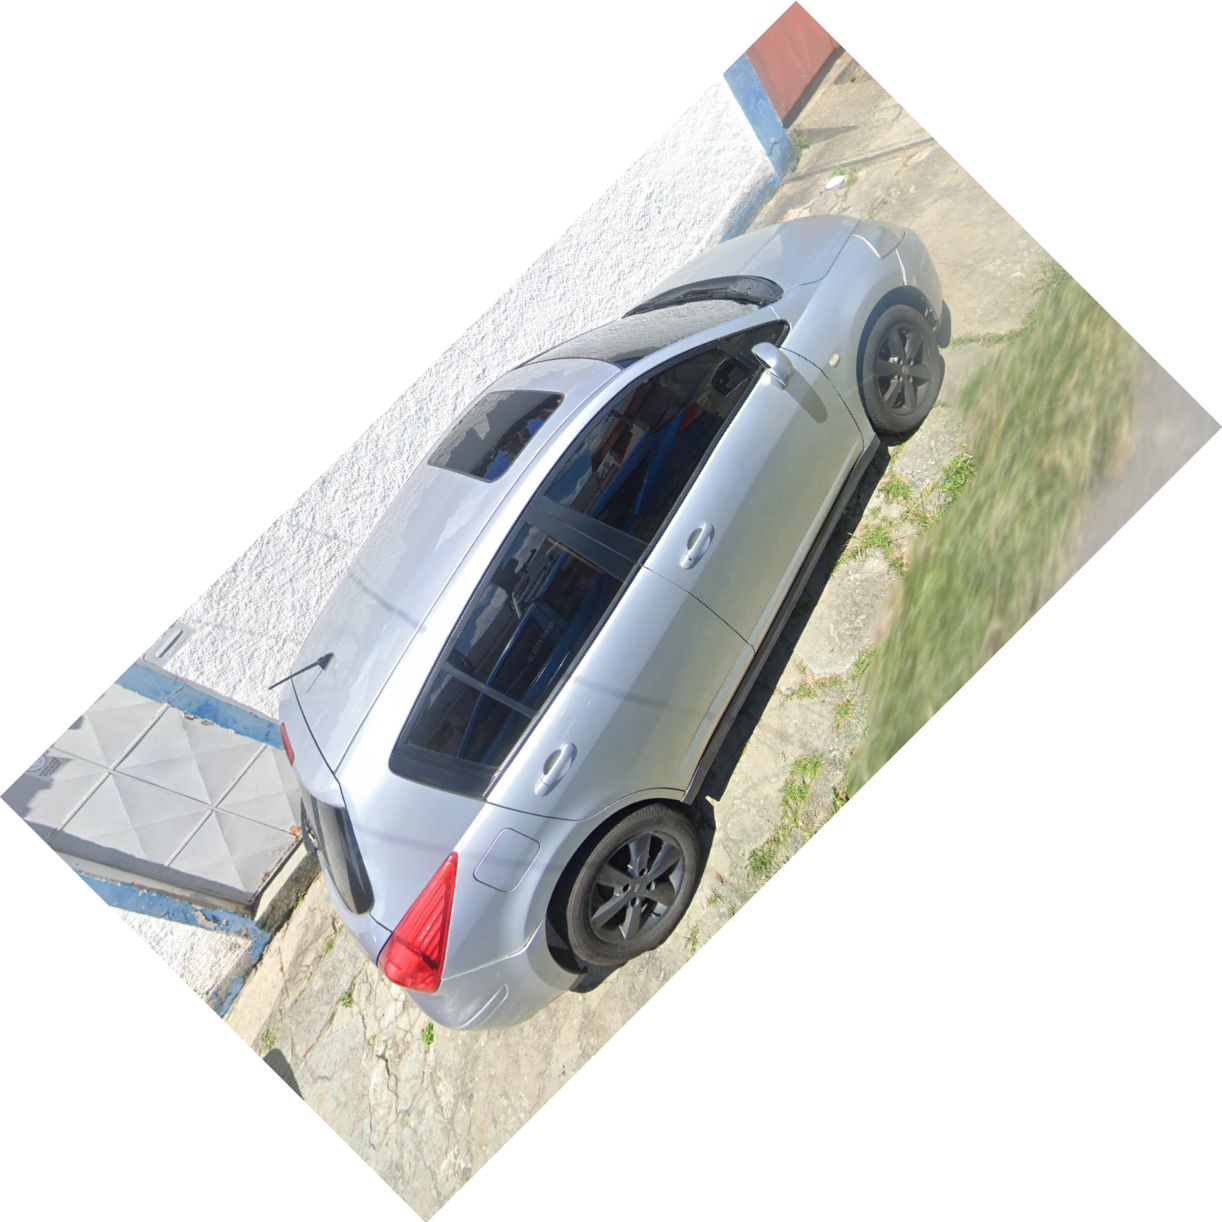car: (278, 211, 946, 1021)
